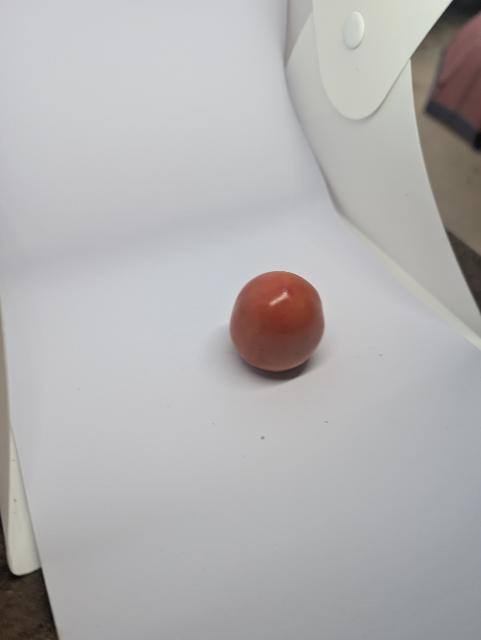red: (228, 270, 337, 383)
